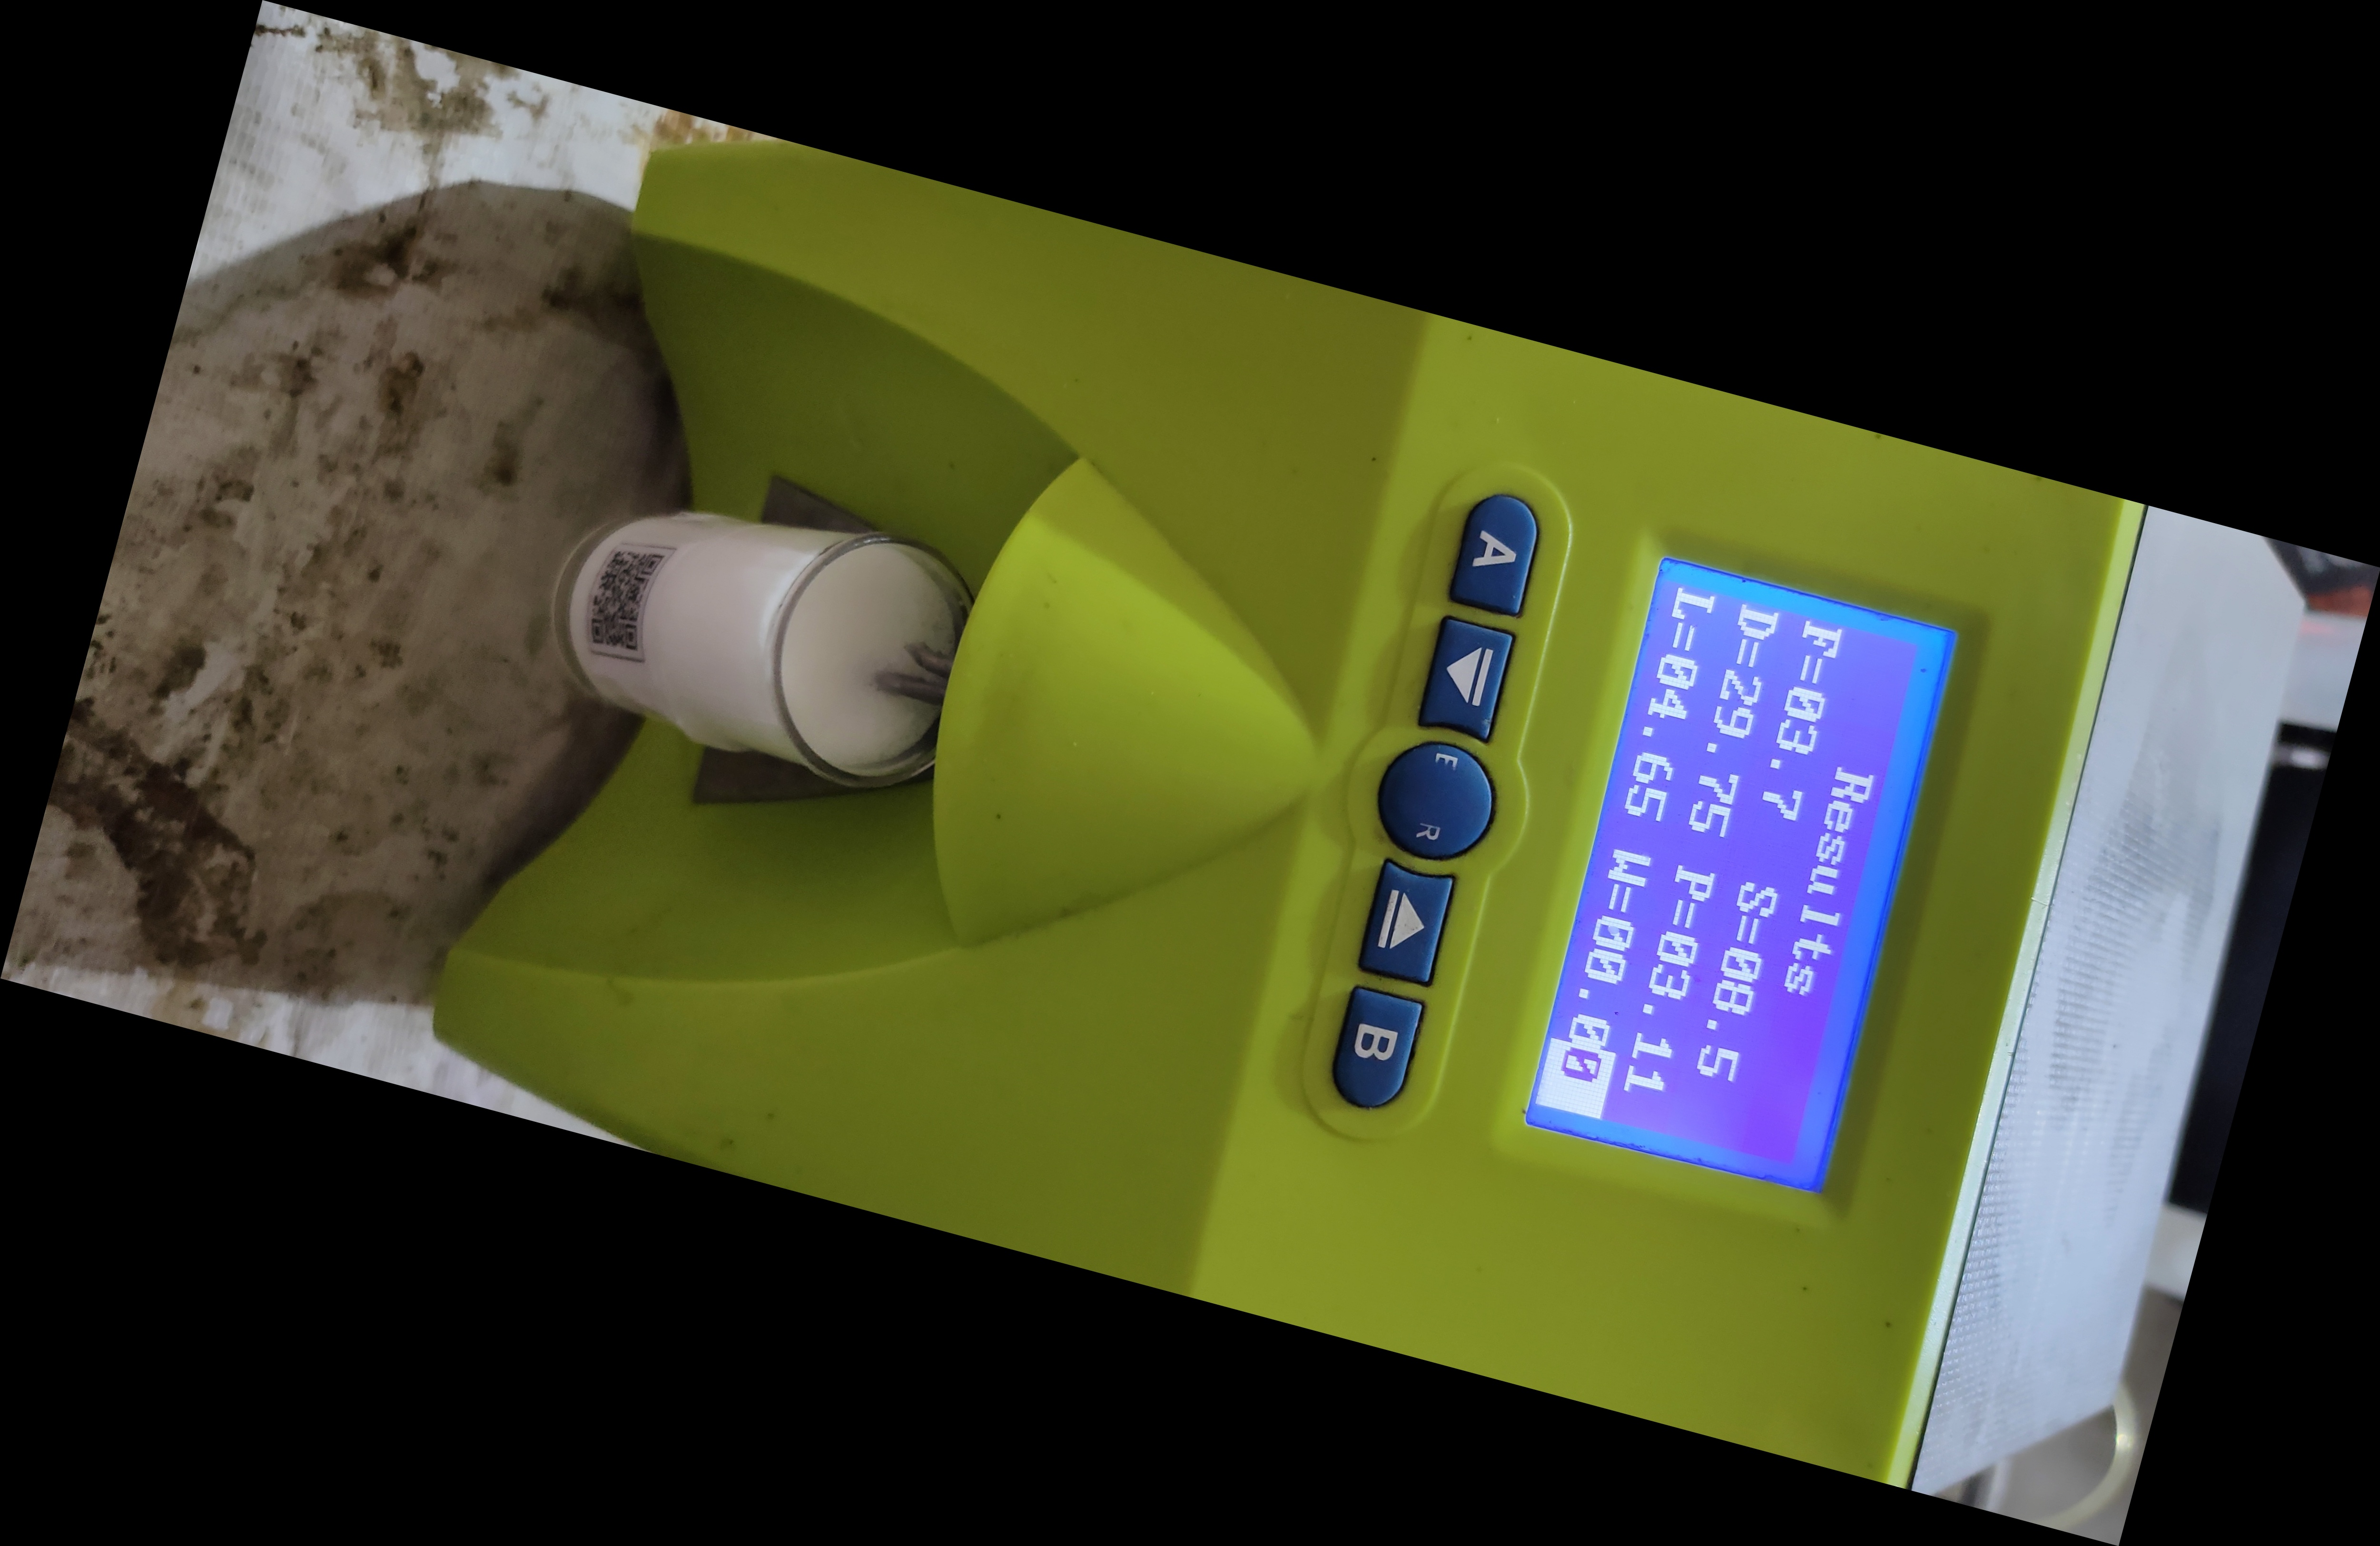lcd: (1502, 508, 2011, 1256)
qr: (578, 538, 689, 663)
